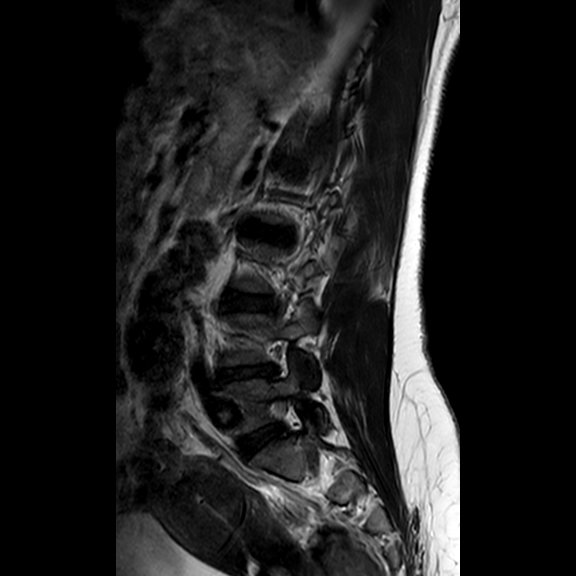LFS0: (248, 329, 299, 391), (257, 391, 310, 448)
